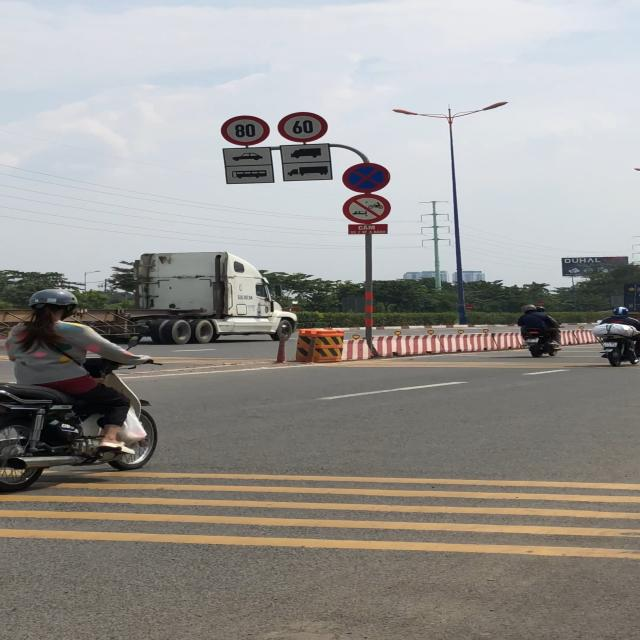Bien bao cam dung xe va do xe: (340, 160, 396, 193)
Bien bao toc do toi da cho phep: (220, 114, 272, 146), (275, 112, 332, 141)
